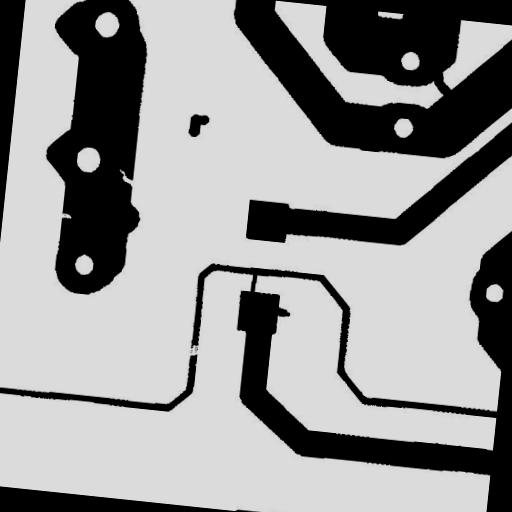copper: (180, 106, 218, 146)
mousebite: (109, 160, 144, 194), (50, 204, 80, 227)
open: (179, 336, 210, 366)
short: (422, 62, 462, 105), (240, 264, 266, 305)
spur: (267, 298, 299, 326)
